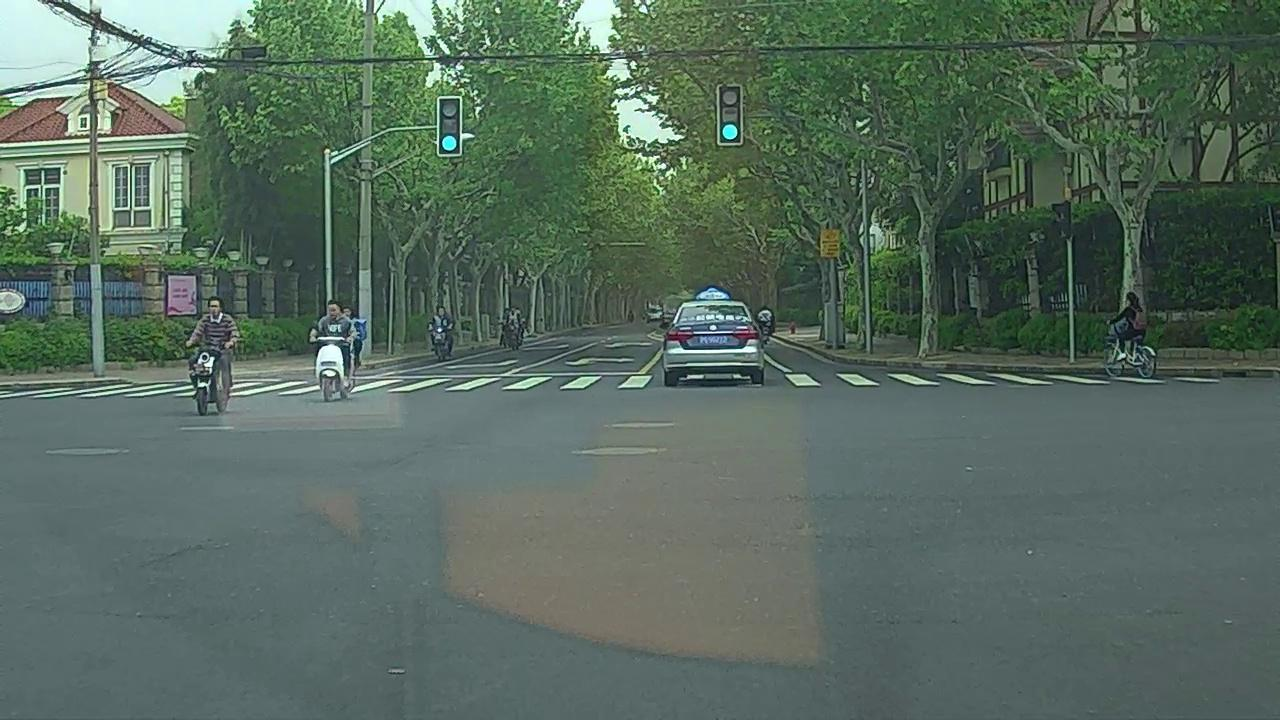traffic_light: (721, 86, 743, 145), (440, 99, 461, 154)
